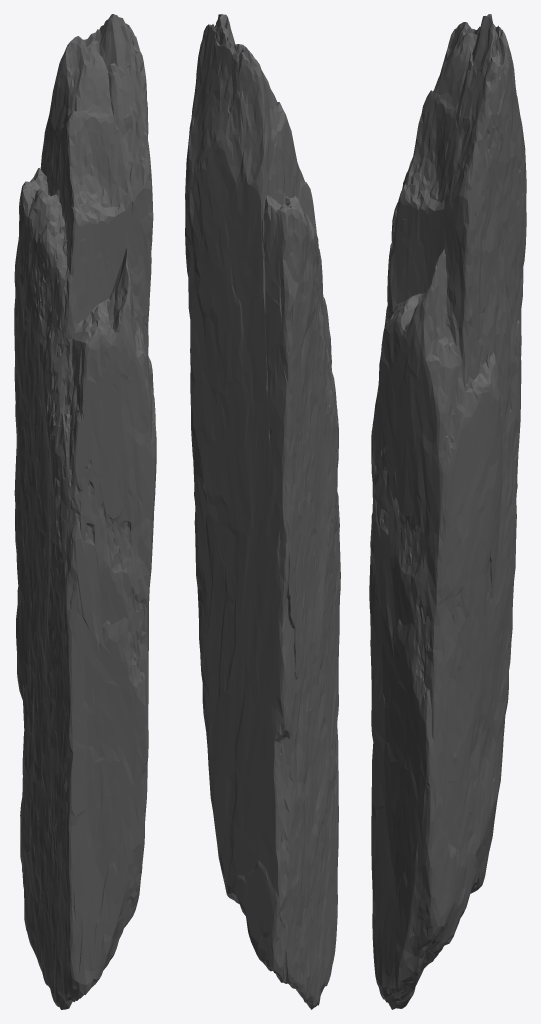
The model's file is truth.obj.
The picture shows the model from 3 angles, left to right: view 1: azimuth 30°, elevation 25°; view 2: azimuth 150°, elevation 25°; view 3: azimuth 330°, elevation 25°; orthographic projection. The views are drawn at different scales.
Parts seen in each view (by area): view 1: geometry; view 2: geometry; view 3: geometry.
Boxes of the visible parts, left/top/right/bottom form: geometry: left=14, top=14, right=156, bottom=1009; geometry: left=185, top=14, right=340, bottom=1009; geometry: left=369, top=14, right=526, bottom=1009.
Bounding box in the file's own units: 0.1397 × 1.17 × 0.1461.
1 material, 1 textured.
